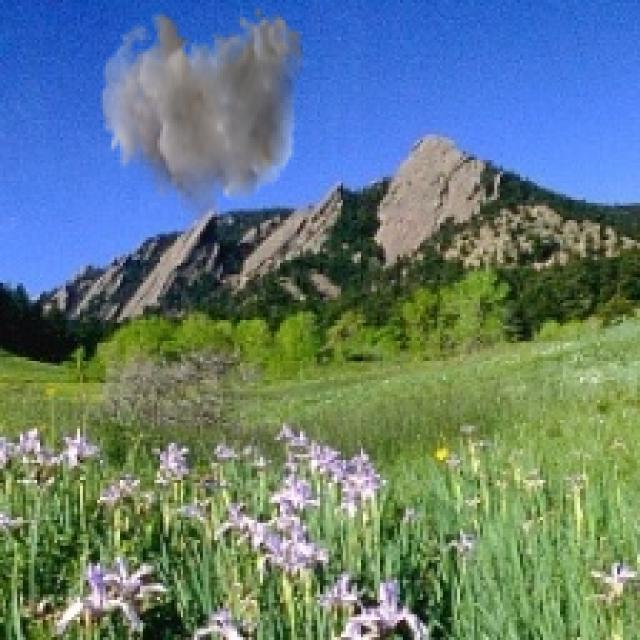smoke: (100, 5, 306, 228)
